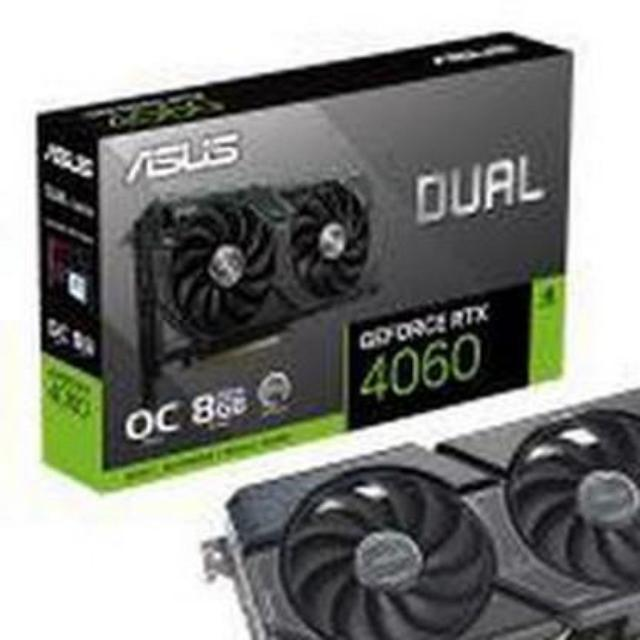GPU: (206, 375, 640, 640)
